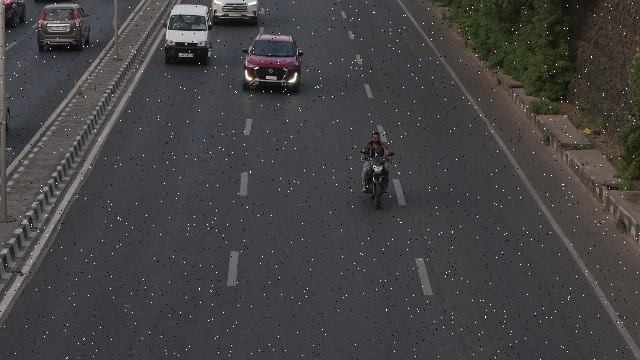Without Helmet: (370, 132, 380, 144)
